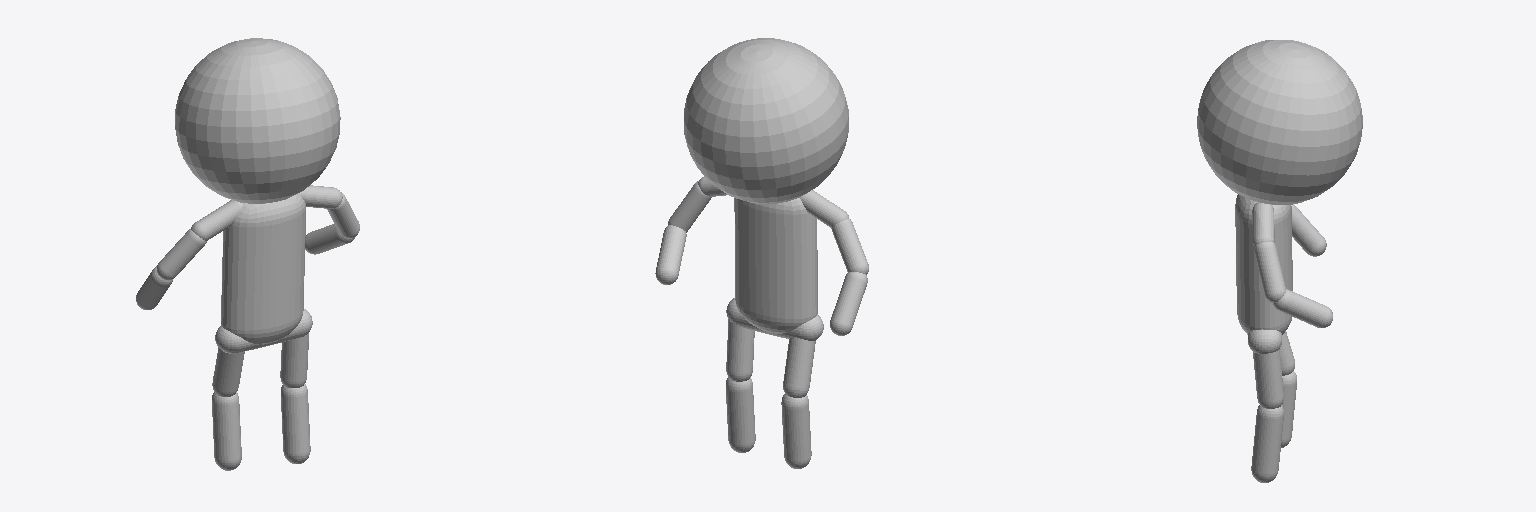
File: Stickman_000050.obj
3 views of the same model, side by side, from view 1: azimuth 30°, elevation 25°; view 2: azimuth 150°, elevation 25°; view 3: azimuth 270°, elevation 25° (orthographic).
Parts seen in each view (by area): view 1: Head_Sphere.001, Body_Roundcube.002, LowerLegLeft_Roundcube.013, LowerLegRight_Roundcube.011, UpperLegLeft_Roundcube.012, UpperArmRight_Roundcube.015, UpperLegRight_Roundcube.010, Hip_Roundcube.005, ShoulderRight_Roundcube.014, LowerArmLeft_Roundcube.019, LowerArmRight_Roundcube.016, ShoulderLeft_Roundcube.017 (+1 smaller); view 2: Head_Sphere.001, Body_Roundcube.002, LowerLegRight_Roundcube.011, LowerLegLeft_Roundcube.013, UpperLegRight_Roundcube.010, LowerArmRight_Roundcube.016, UpperLegLeft_Roundcube.012, LowerArmLeft_Roundcube.019, UpperArmRight_Roundcube.015, Hip_Roundcube.005, UpperArmLeft_Roundcube.018, ShoulderRight_Roundcube.014; view 3: Head_Sphere.001, Body_Roundcube.002, LowerLegLeft_Roundcube.013, UpperLegLeft_Roundcube.012, UpperArmLeft_Roundcube.018, LowerArmLeft_Roundcube.019, LowerArmRight_Roundcube.016, ShoulderLeft_Roundcube.017, LowerLegRight_Roundcube.011, Hip_Roundcube.005.
Part boxes in pixels (x1,y1,x2,y2): Head_Sphere.001: (175,38,340,203); Body_Roundcube.002: (221,194,305,344); LowerLegLeft_Roundcube.013: (281,384,310,463); LowerLegRight_Roundcube.011: (212,392,241,470); UpperLegLeft_Roundcube.012: (280,333,308,387); UpperArmRight_Roundcube.015: (157,229,206,280); UpperLegRight_Roundcube.010: (212,347,244,396); Hip_Roundcube.005: (215,309,312,353); ShoulderRight_Roundcube.014: (191,200,242,240); LowerArmLeft_Roundcube.019: (305,224,354,254); LowerArmRight_Roundcube.016: (136,266,172,309); ShoulderLeft_Roundcube.017: (298,185,342,208); Head_Sphere.001: (684,38,848,203); Body_Roundcube.002: (734,198,817,333); LowerLegRight_Roundcube.011: (781,394,811,468); LowerLegLeft_Roundcube.013: (726,377,755,452); UpperLegRight_Roundcube.010: (783,337,815,397); LowerArmRight_Roundcube.016: (830,272,867,335); UpperLegLeft_Roundcube.012: (726,319,754,381); LowerArmLeft_Roundcube.019: (655,225,686,284); UpperArmRight_Roundcube.015: (831,219,868,274); Hip_Roundcube.005: (726,298,823,340); UpperArmLeft_Roundcube.018: (668,181,711,232); ShoulderRight_Roundcube.014: (799,190,848,227); Head_Sphere.001: (1197,40,1362,204); Body_Roundcube.002: (1235,194,1292,334); LowerLegLeft_Roundcube.013: (1251,405,1283,482); UpperLegLeft_Roundcube.012: (1253,349,1283,408); UpperArmLeft_Roundcube.018: (1254,242,1285,302); LowerArmLeft_Roundcube.019: (1273,289,1332,327); LowerArmRight_Roundcube.016: (1291,204,1326,256); ShoulderLeft_Roundcube.017: (1252,202,1274,246); LowerLegRight_Roundcube.011: (1281,371,1296,447); Hip_Roundcube.005: (1248,329,1281,353).
Bounding box in the file's own units: 6.04 × 11.98 × 4.3.